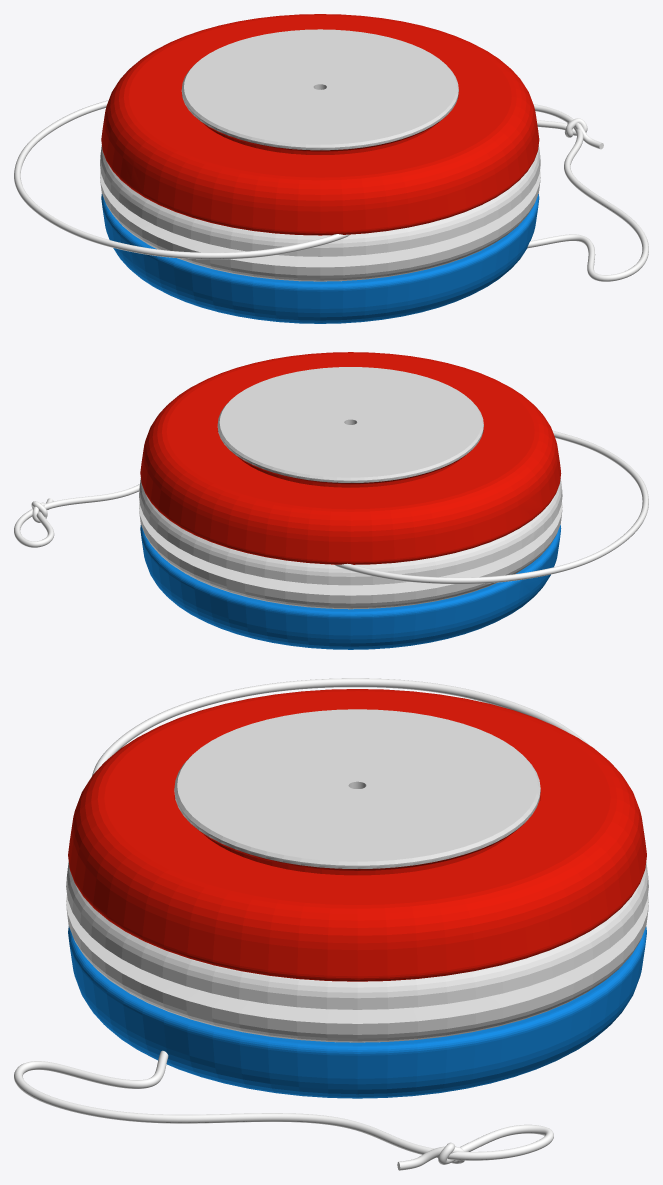
The model's file is Yoyo_amb.fbx.
3 views of the same model, one above another, from view 1: azimuth 30°, elevation 25°; view 2: azimuth 150°, elevation 25°; view 3: azimuth 270°, elevation 25° (orthographic). The views are drawn at different scales.
Visible parts, largest first — view 1: Yoyo; view 2: Yoyo; view 3: Yoyo.
Part boxes in pixels (x1=…): Yoyo: x1=14, y1=14, x2=648, y2=323; Yoyo: x1=14, y1=352, x2=648, y2=649; Yoyo: x1=14, y1=678, x2=648, y2=1170.
Bounding box in the file's own units: 39.32 × 10.59 × 28.16.
